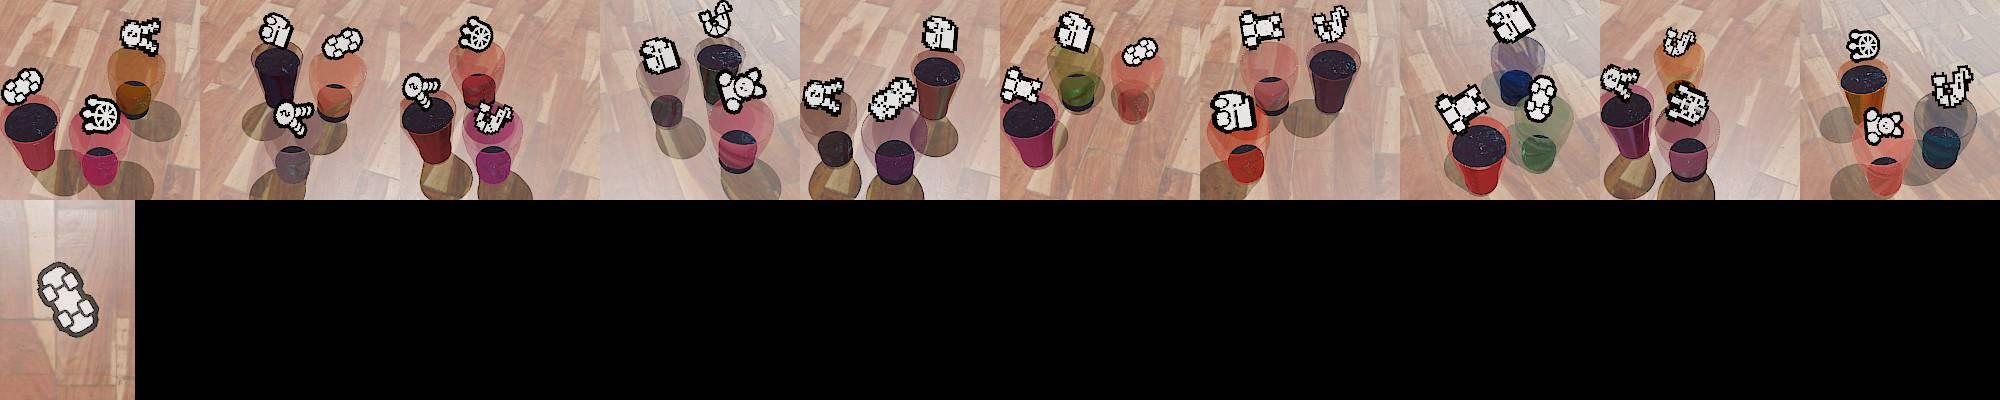icon: (36, 261, 102, 341), (1435, 83, 1490, 135), (714, 66, 765, 115), (867, 75, 917, 124), (1662, 79, 1709, 127), (1210, 88, 1259, 132), (1485, 1, 1534, 45), (1239, 8, 1286, 50), (1522, 73, 1560, 124), (1930, 65, 1973, 110), (1054, 10, 1096, 55), (1000, 65, 1043, 107), (78, 93, 122, 134), (801, 74, 846, 115), (119, 17, 162, 56), (1, 68, 43, 107), (273, 99, 315, 138), (639, 36, 681, 74), (1864, 107, 1904, 145), (1598, 62, 1642, 98), (1311, 5, 1349, 45), (472, 101, 515, 135), (321, 27, 365, 61), (921, 14, 958, 54), (698, 0, 733, 38), (458, 14, 492, 54), (259, 11, 293, 50), (402, 73, 443, 104), (1662, 27, 1698, 59), (1121, 37, 1158, 68), (1846, 29, 1879, 62)
